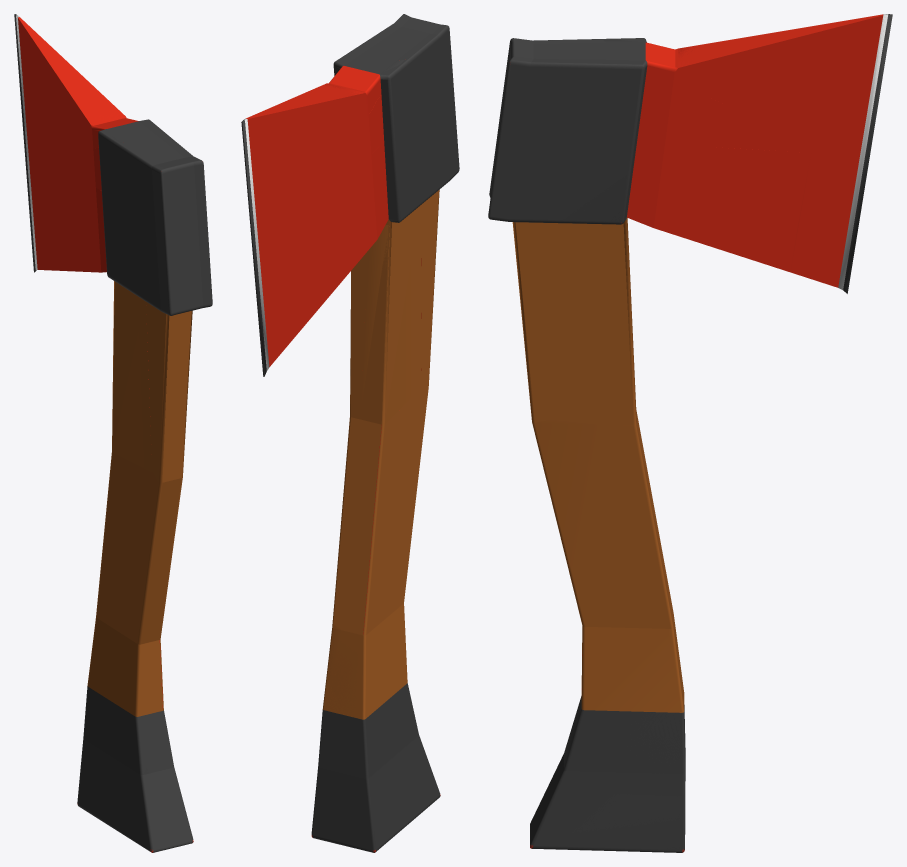
The model's file is Axe.fbx.
3 views of the same model, side by side, from view 1: azimuth 30°, elevation 25°; view 2: azimuth 150°, elevation 25°; view 3: azimuth 270°, elevation 25° (orthographic). The views are drawn at different scales.
Visible parts, largest first — view 1: Plane.001, Plane.001_cell.013, Plane.001_cell.001, Plane.001_cell.003, Plane.001_cell.006, Plane.001_cell.005, Plane.001_cell, Plane.001_cell.002, Plane.001_cell.004, Plane.001_cell.010, Plane.001_cell.014, Plane.001_cell.007; view 2: Plane.001, Plane.001_cell.013, Plane.001_cell.003, Plane.001_cell.001, Plane.001_cell.008, Plane.001_cell.005, Plane.001_cell, Plane.001_cell.014, Plane.001_cell.007, Plane.001_cell.010; view 3: Plane.001, Plane.001_cell.008, Plane.001_cell, Plane.001_cell.010, Plane.001_cell.012, Plane.001_cell.005, Plane.001_cell.014, Plane.001_cell.013, Plane.001_cell.011.
Boxes of the visible parts, x1=… form: Plane.001: x1=14, y1=14, x2=212, y2=852; Plane.001_cell.013: x1=24, y1=142, x2=137, y2=272; Plane.001_cell.001: x1=137, y1=201, x2=177, y2=479; Plane.001_cell.003: x1=109, y1=262, x2=151, y2=471; Plane.001_cell.006: x1=150, y1=191, x2=190, y2=315; Plane.001_cell.005: x1=90, y1=627, x2=172, y2=777; Plane.001_cell: x1=14, y1=14, x2=138, y2=148; Plane.001_cell.002: x1=163, y1=304, x2=210, y2=479; Plane.001_cell.004: x1=188, y1=190, x2=211, y2=305; Plane.001_cell.010: x1=93, y1=141, x2=203, y2=205; Plane.001_cell.014: x1=171, y1=802, x2=192, y2=847; Plane.001_cell.007: x1=93, y1=784, x2=183, y2=851; Plane.001: x1=242, y1=14, x2=459, y2=852; Plane.001_cell.013: x1=253, y1=107, x2=428, y2=376; Plane.001_cell.003: x1=360, y1=196, x2=429, y2=423; Plane.001_cell.001: x1=421, y1=76, x2=459, y2=387; Plane.001_cell.008: x1=334, y1=387, x2=422, y2=646; Plane.001_cell.005: x1=324, y1=624, x2=417, y2=737; Plane.001_cell: x1=241, y1=60, x2=407, y2=247; Plane.001_cell.014: x1=312, y1=784, x2=369, y2=848; Plane.001_cell.007: x1=333, y1=778, x2=435, y2=851; Plane.001_cell.010: x1=334, y1=28, x2=449, y2=153; Plane.001: x1=488, y1=14, x2=892, y2=852; Plane.001_cell.008: x1=535, y1=410, x2=670, y2=722; Plane.001_cell: x1=603, y1=15, x2=892, y2=152; Plane.001_cell.010: x1=506, y1=39, x2=829, y2=152; Plane.001_cell.012: x1=557, y1=137, x2=809, y2=426; Plane.001_cell.005: x1=563, y1=622, x2=682, y2=774; Plane.001_cell.014: x1=530, y1=792, x2=682, y2=851; Plane.001_cell.013: x1=790, y1=153, x2=860, y2=287; Plane.001_cell.011: x1=490, y1=100, x2=558, y2=218.
Size of the model in its own units: 110 by 1310 by 583.
